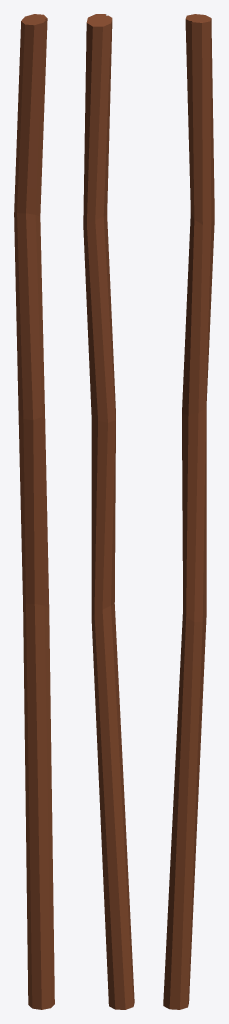
Rendered from Shed stick.fbx.
3 renders of one model, left to right at view 1: azimuth 90°, elevation 25°; view 2: azimuth 150°, elevation 25°; view 3: azimuth 330°, elevation 25°, orthographic.
Visible parts, largest first — view 1: Shed stick; view 2: Shed stick; view 3: Shed stick.
Boxes of the visible parts, left/top/right/bottom form: Shed stick: left=14, top=14, right=54, bottom=1009; Shed stick: left=83, top=14, right=134, bottom=1009; Shed stick: left=163, top=14, right=214, bottom=1009.
Size of the model in its own units: 13.99 by 314 by 11.89.
